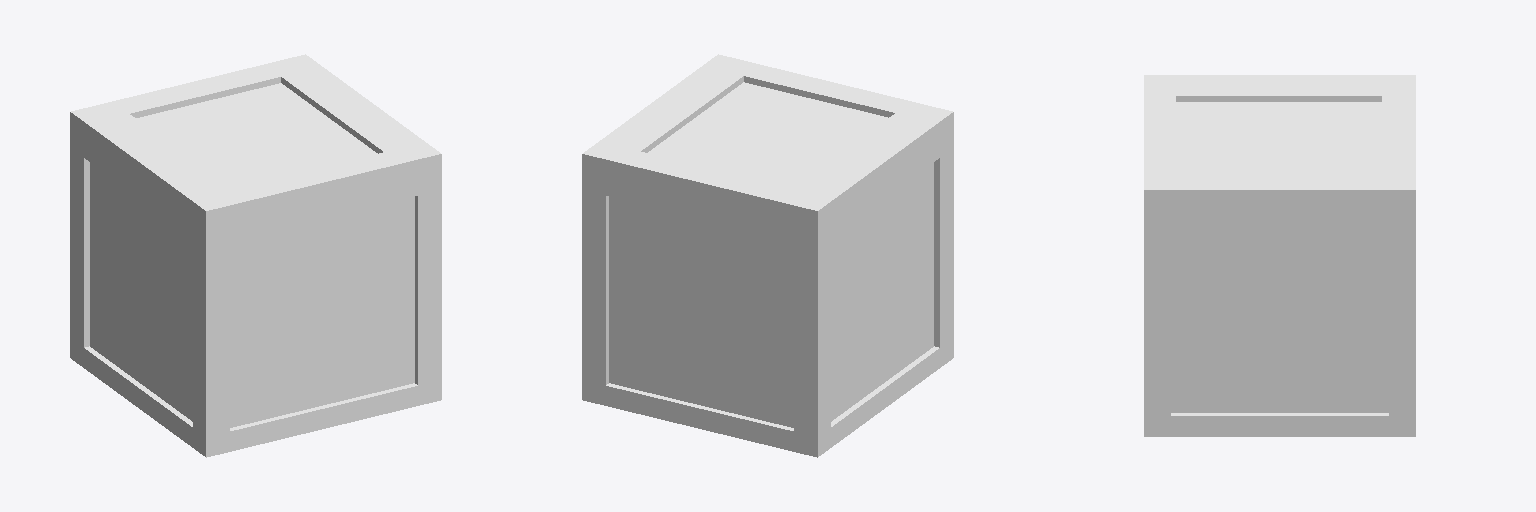
Rendered from crateA_obj.obj.
3 views of the same model, side by side, from view 1: azimuth 30°, elevation 25°; view 2: azimuth 150°, elevation 25°; view 3: azimuth 270°, elevation 25° (orthographic).
Visible parts, largest first — view 1: crateA_crate.002; view 2: crateA_crate.002; view 3: crateA_crate.002.
Boxes of the visible parts, x1=… form: crateA_crate.002: x1=70, y1=54, x2=441, y2=457; crateA_crate.002: x1=582, y1=54, x2=953, y2=457; crateA_crate.002: x1=1144, y1=75, x2=1415, y2=436.
Bounding box in the file's own units: 4 × 4 × 4.